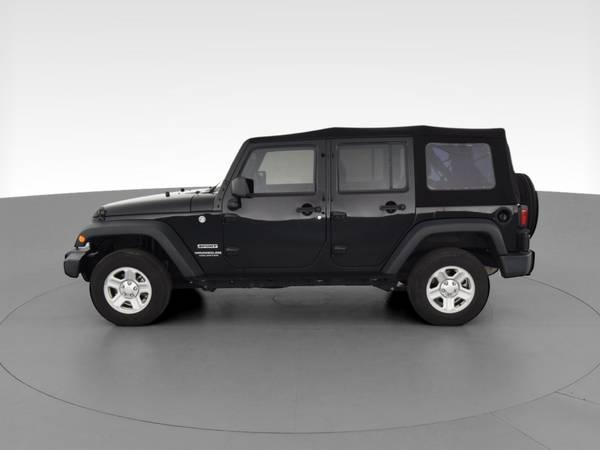Front_Bumper: (62, 248, 88, 280)
Front_Fender: (73, 207, 227, 285)
Front_Left_Door: (220, 191, 330, 277)
Front_Left_Window: (223, 133, 330, 192)
Hood: (96, 185, 218, 213)
Rear_Bumper: (499, 248, 536, 278)
Rear_Fender: (381, 130, 530, 276)
Rear_Left_Door: (328, 189, 418, 276)
Rear_Left_Window: (330, 132, 418, 194)
Wheel: (409, 247, 491, 328), (90, 248, 171, 329)
